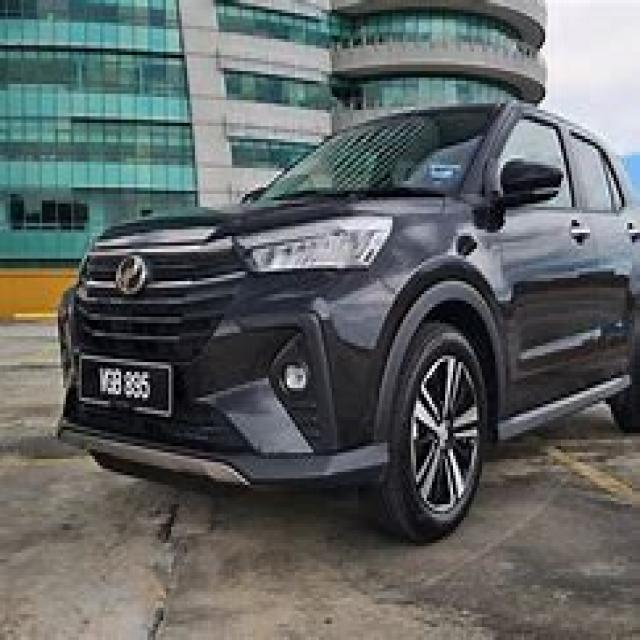PeroduaAtiva: (50, 94, 637, 543)
